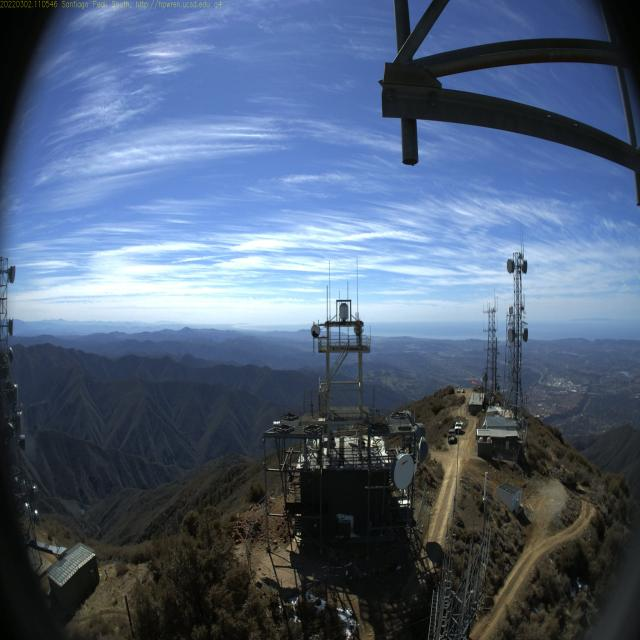smoke: (0, 368, 88, 523)
